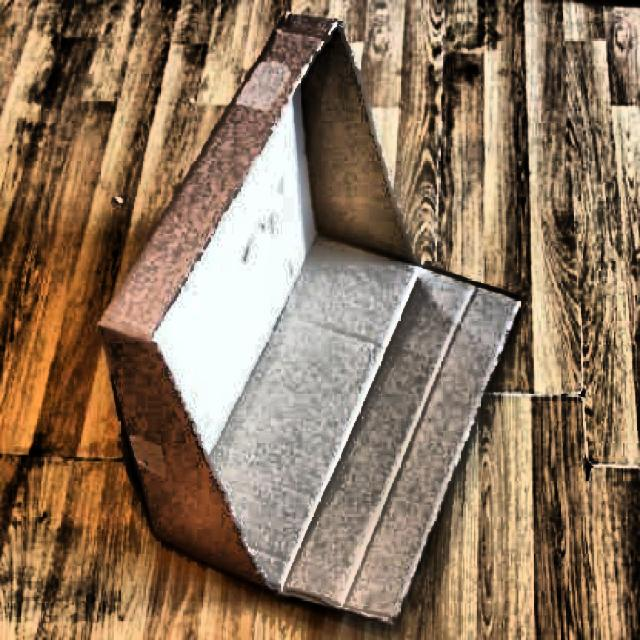Cardbox: (92, 0, 528, 640)
